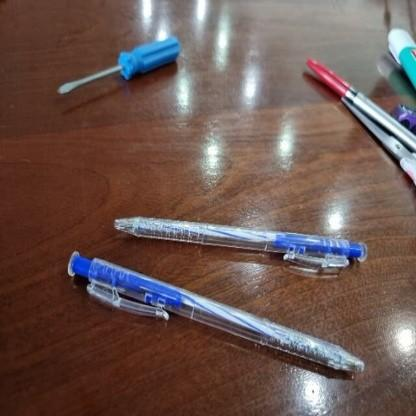not trash: (45, 240, 371, 388), (102, 197, 378, 274), (303, 56, 416, 161), (48, 32, 191, 111), (373, 15, 416, 81)
